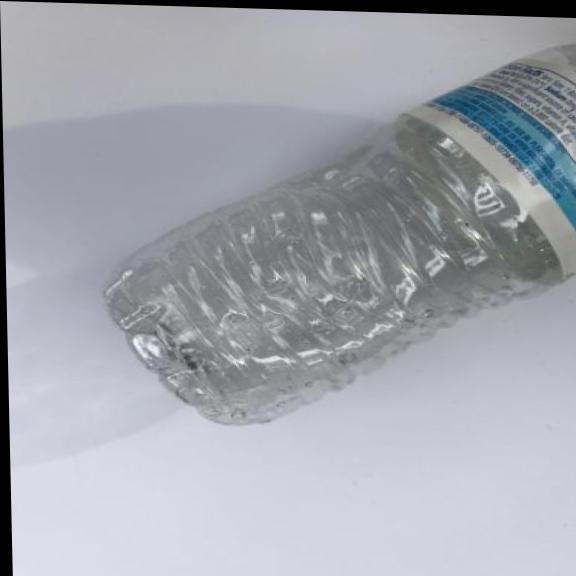Plastik: (93, 30, 576, 440)
